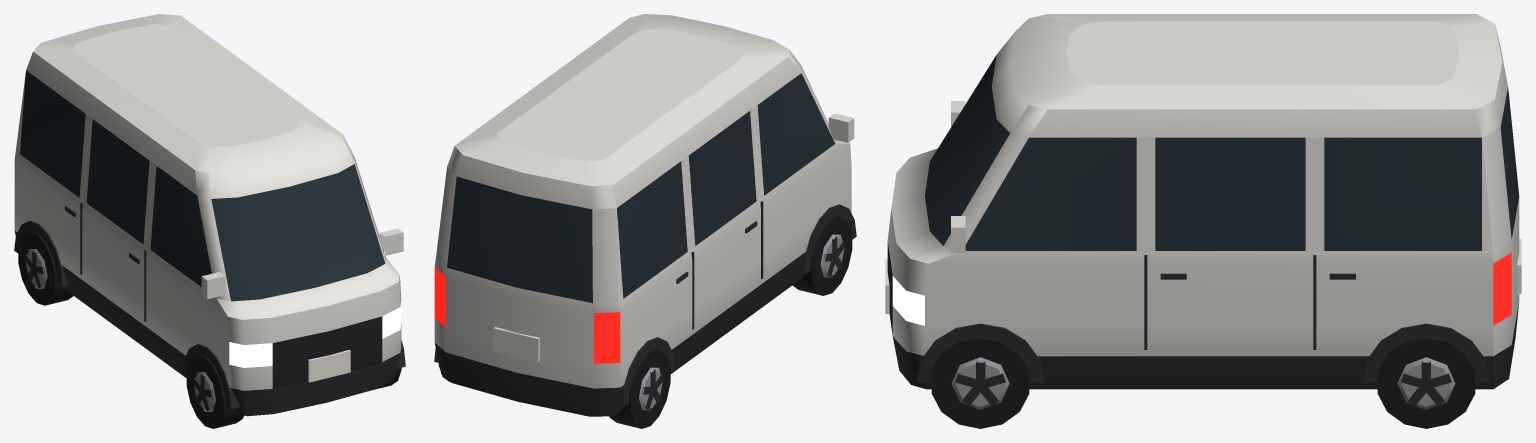
File: tokyo_kei_van.glb
3 views of the same model, side by side, from view 1: azimuth 30°, elevation 25°; view 2: azimuth 150°, elevation 25°; view 3: azimuth 270°, elevation 25° (orthographic). The views are drawn at different scales.
Visible parts, largest first — view 1: tokyo_kei_van; view 2: tokyo_kei_van; view 3: tokyo_kei_van.
Part boxes in pixels (x1,y1,x2,y2): tokyo_kei_van: (14, 14, 405, 428); tokyo_kei_van: (434, 14, 856, 428); tokyo_kei_van: (885, 14, 1521, 428).
Bounding box in the file's own units: 1.62 × 1.89 × 3.42.
Materials: 1 (1 with a texture image).
